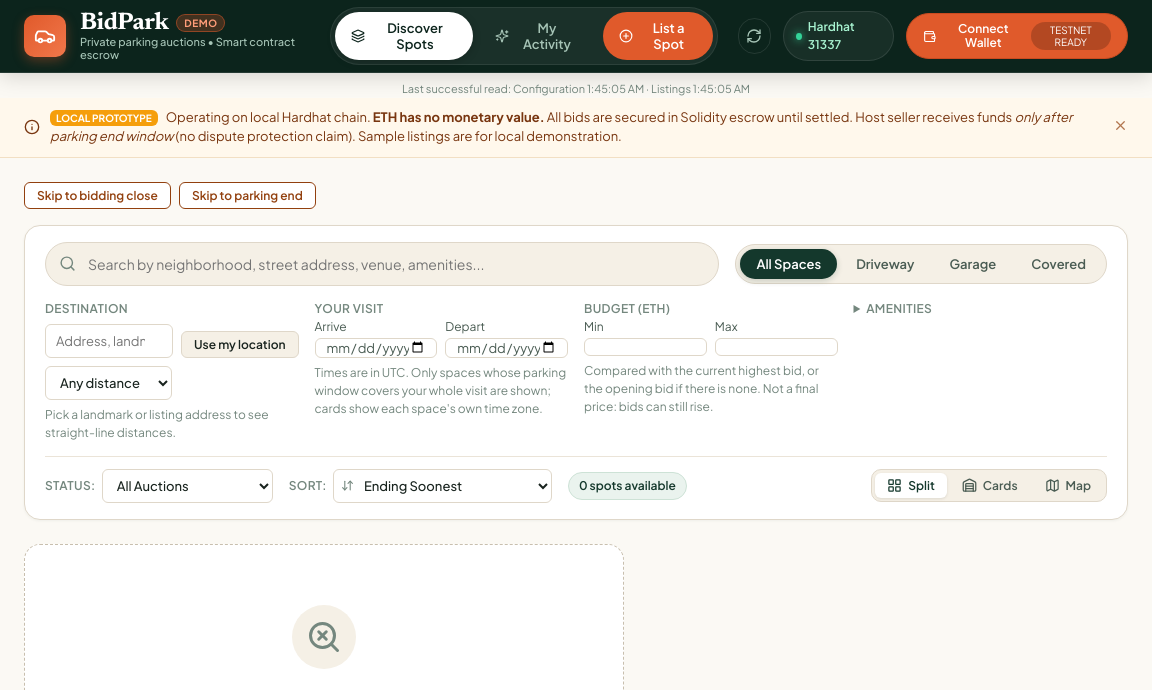
Test case: configuration read status › manual refresh re-reads configuration and keeps the last config, labeled stale, when it fails
Click the button named "Refresh data" at (754, 36), box x1=738 y1=18 x2=771 y2=54
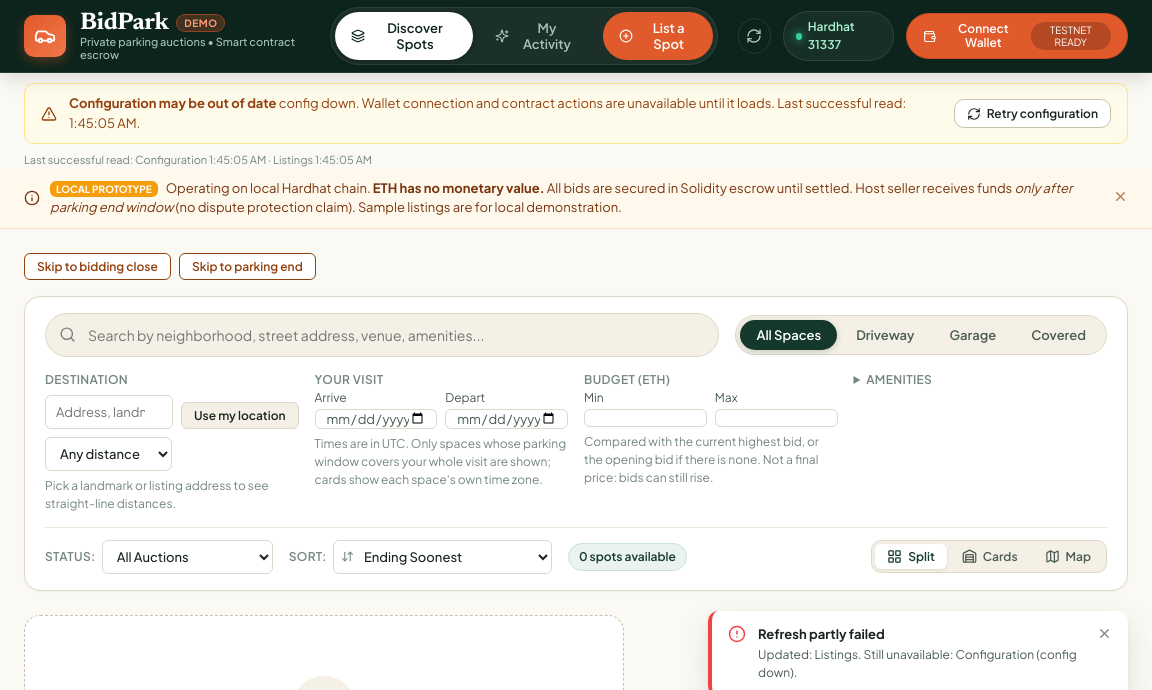
Result: the text "Configuration may be out of date" is shown at x1=69 y1=95 x2=276 y2=111
